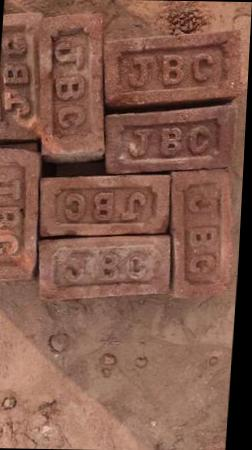brick: (99, 27, 242, 110), (32, 16, 108, 163), (34, 235, 170, 306), (102, 105, 233, 177), (40, 176, 172, 239), (168, 171, 229, 301), (0, 148, 41, 286), (0, 9, 38, 144)
